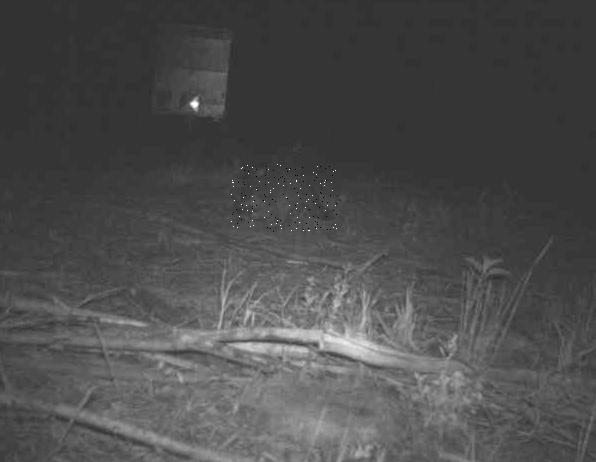Raccoon: (231, 163, 337, 232)
